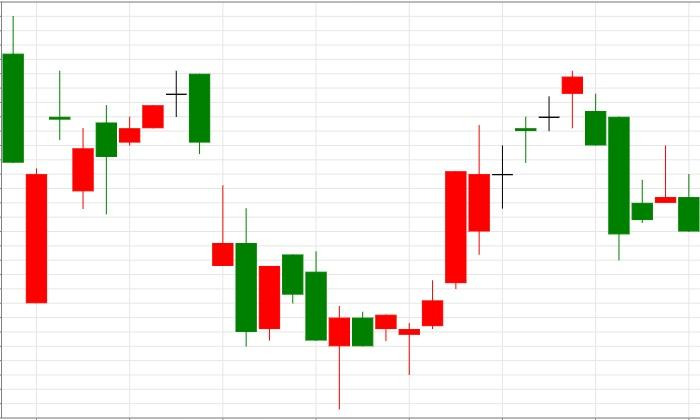hanging_man_fall: (398, 71, 583, 374)
